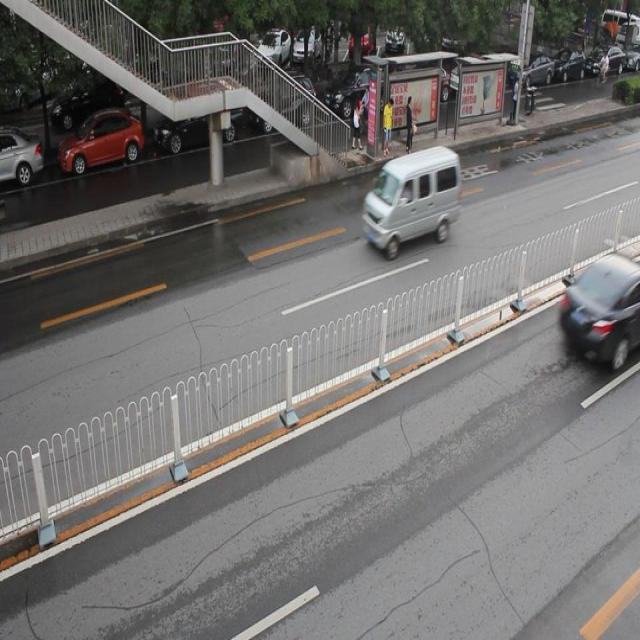car: (559, 250, 640, 372), (58, 112, 143, 174), (154, 102, 242, 150), (248, 78, 317, 132), (323, 67, 392, 119), (1, 128, 43, 186)
truck: (361, 147, 461, 255)
